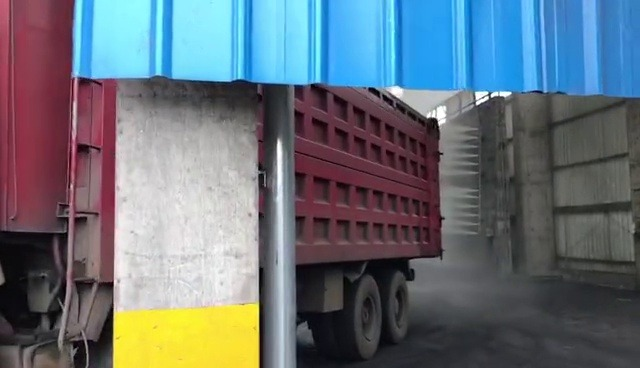truck: (0, 0, 444, 366)
